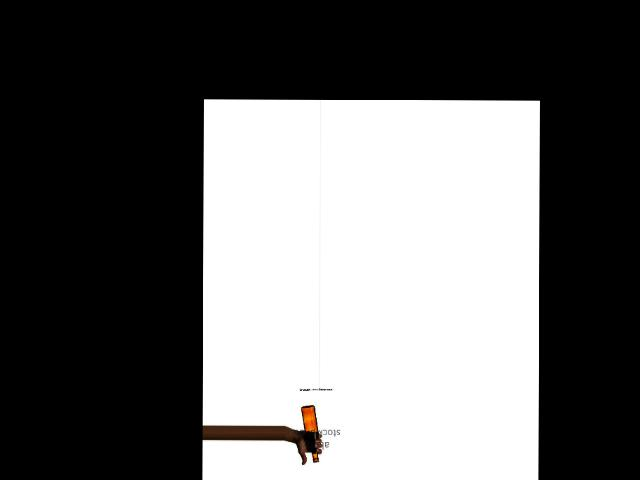beer: (300, 405, 319, 462)
